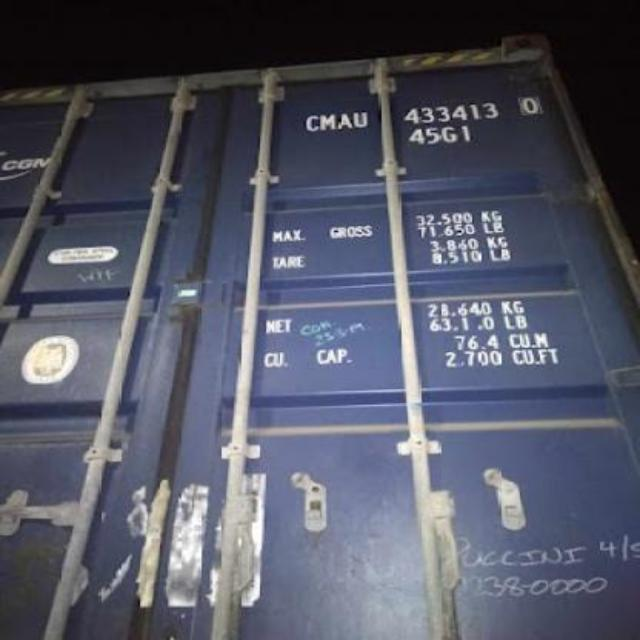0: (516, 92, 546, 116)
1: (466, 97, 479, 123)
3: (434, 94, 450, 124), (480, 98, 498, 122), (421, 98, 434, 126)
4: (398, 99, 419, 129), (450, 90, 468, 122)
A: (338, 106, 352, 132)
C: (300, 108, 320, 136)
M: (318, 105, 336, 134)
U: (352, 106, 370, 134)
